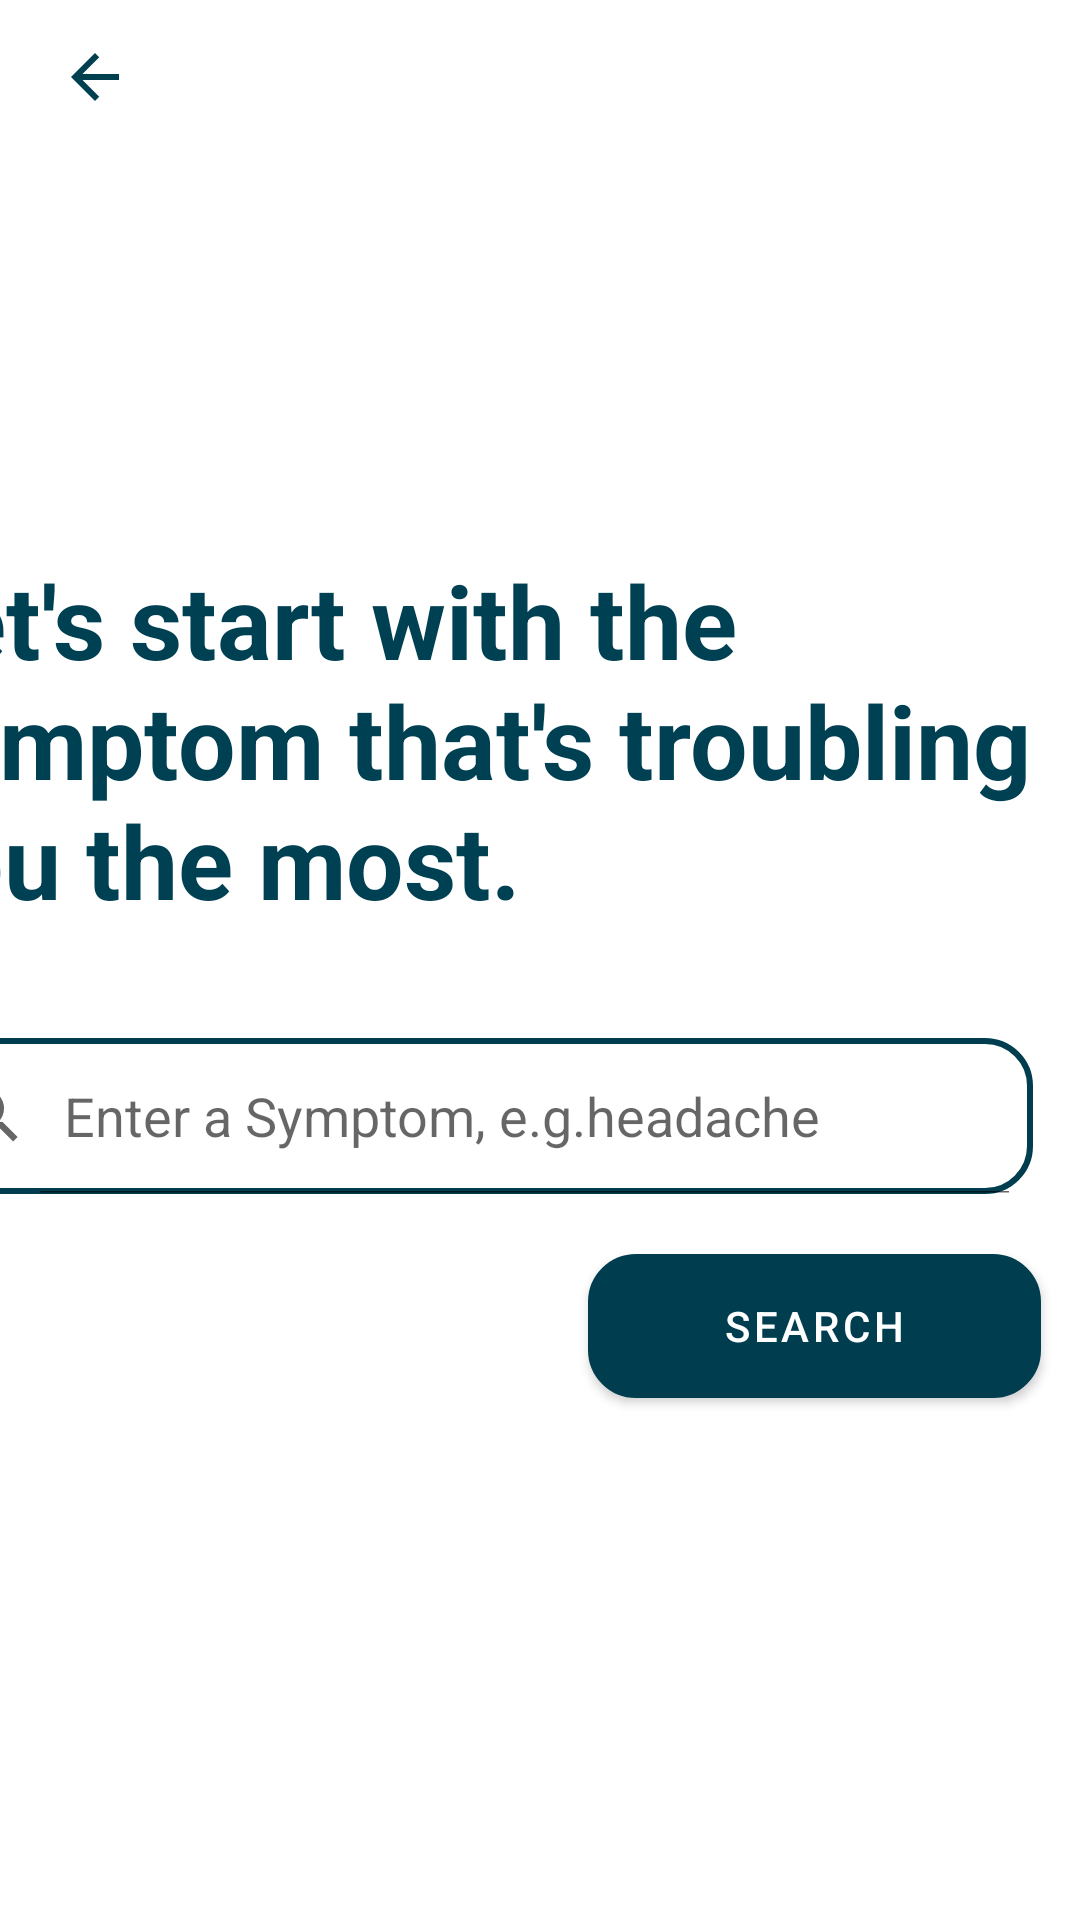

Icons on this 1080×1920 Android screen, each with its box as (x1, y1, x2, y2):
back: (71, 53, 119, 101)
